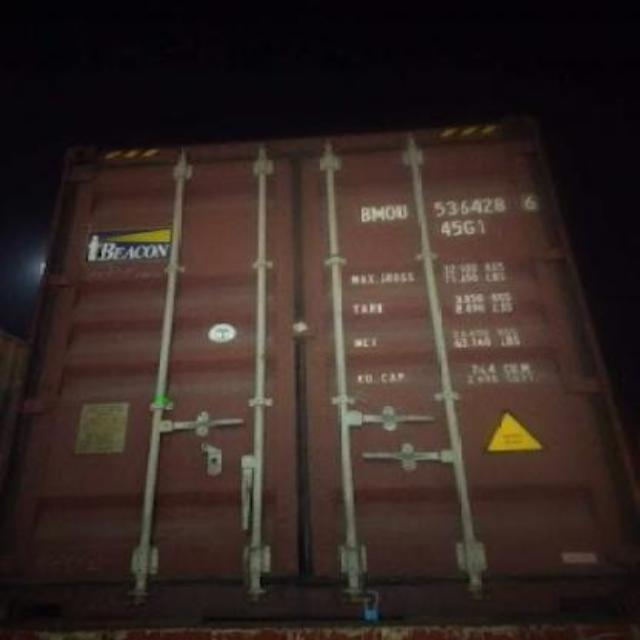2: (482, 198, 496, 214)
3: (446, 200, 458, 216)
4: (472, 197, 484, 215)
5: (432, 200, 444, 216)
6: (524, 194, 536, 210), (460, 200, 470, 214)
8: (494, 198, 506, 212)
B: (358, 206, 370, 222)
M: (371, 206, 384, 222)
O: (384, 206, 396, 222)
U: (396, 204, 408, 220)
